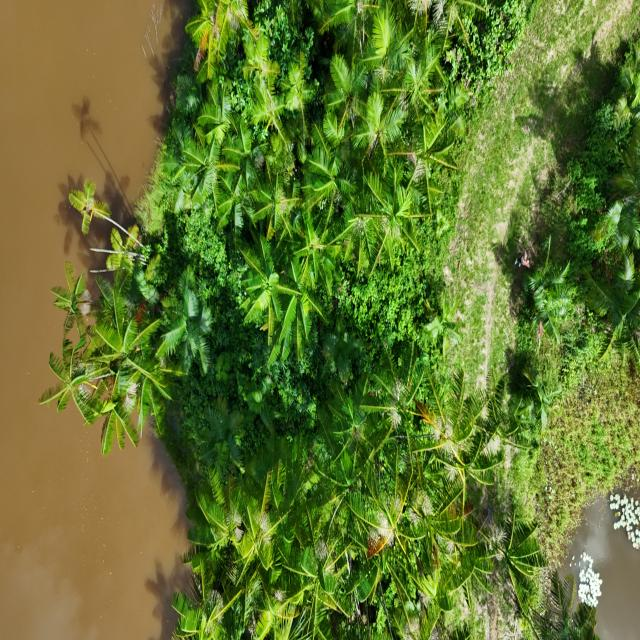vegetation: (39, 1, 619, 637)
